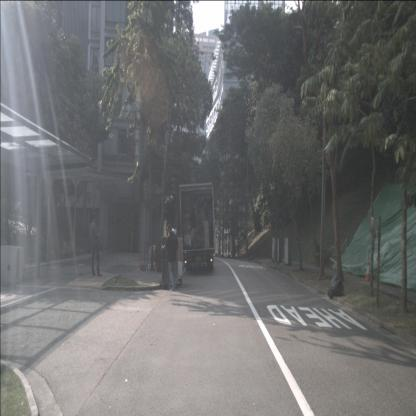cone: (364, 258, 372, 282)
